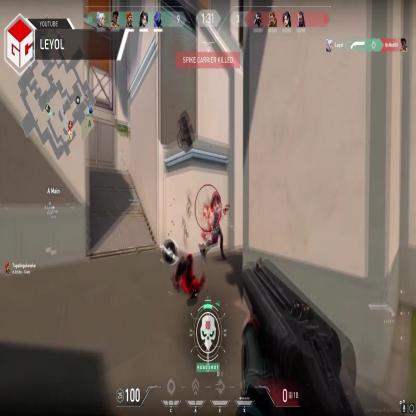enemy: (201, 190, 226, 262)
enemy_head: (216, 195, 221, 206)
